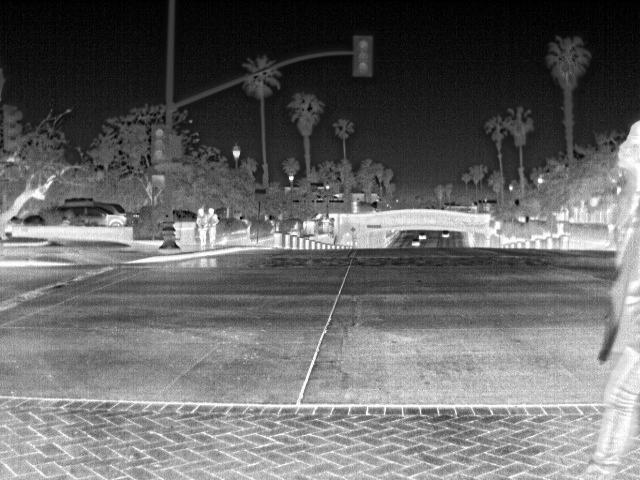car: (58, 205, 129, 226), (97, 200, 141, 218), (174, 208, 197, 222), (411, 236, 421, 248), (416, 231, 428, 240), (441, 229, 451, 239)
person: (584, 116, 640, 477), (203, 204, 220, 252), (195, 209, 209, 251)
